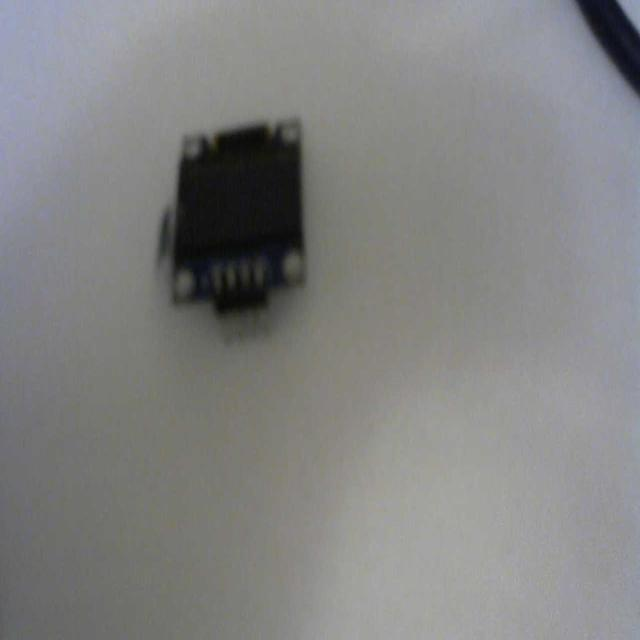oled: (154, 115, 314, 338)
